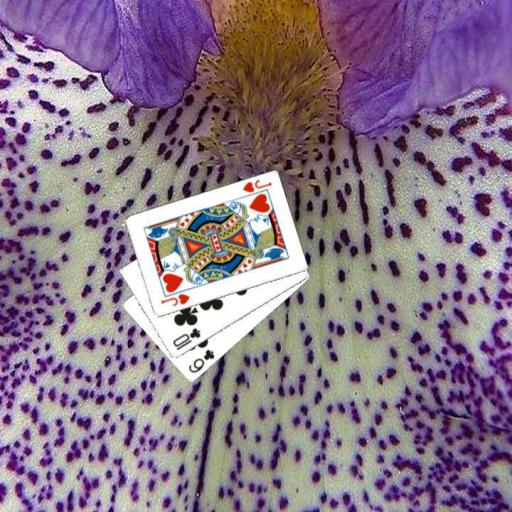10C: (169, 325, 202, 352)
6C: (185, 346, 216, 375)
JH: (158, 291, 191, 308), (240, 177, 273, 194)
